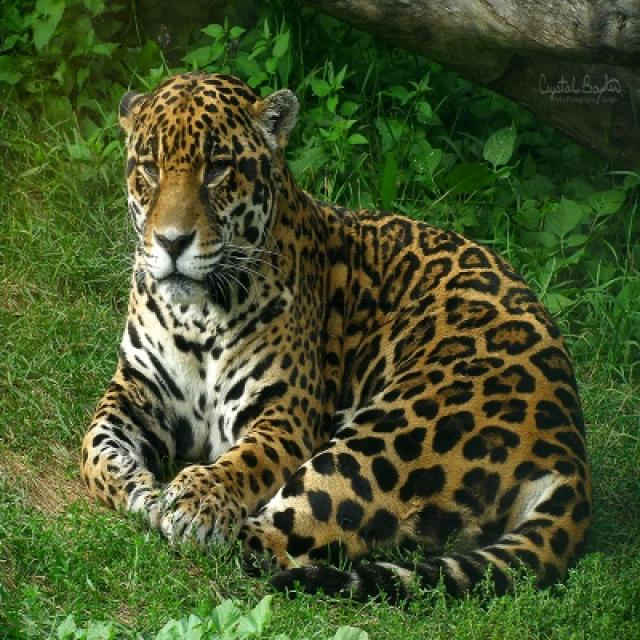Jaguar: (78, 74, 594, 602)
